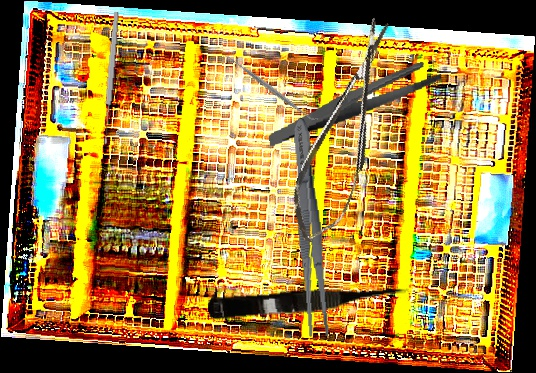Dressing Forceps: (261, 59, 448, 147), (286, 117, 334, 339)
Micro Scissor: (277, 12, 415, 251), (207, 280, 411, 324)
Spatula Surgical: (220, 48, 321, 128)
Surgical Spoon: (100, 11, 121, 145)
